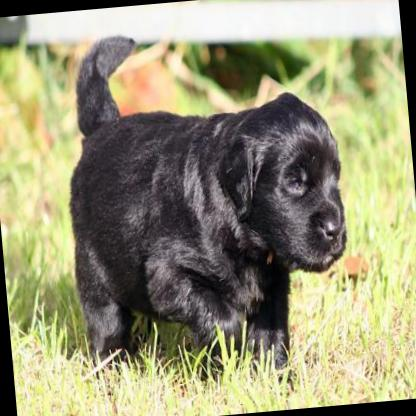Newfoundland: (52, 24, 363, 406)
